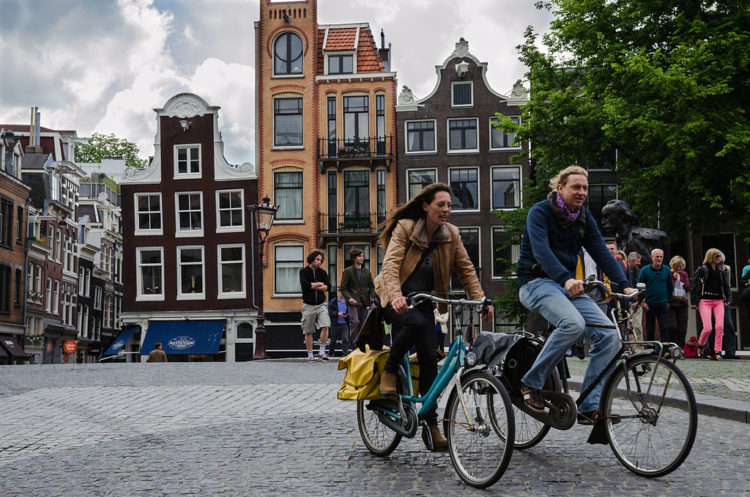commuter: (489, 168, 698, 480), (340, 180, 518, 493)
